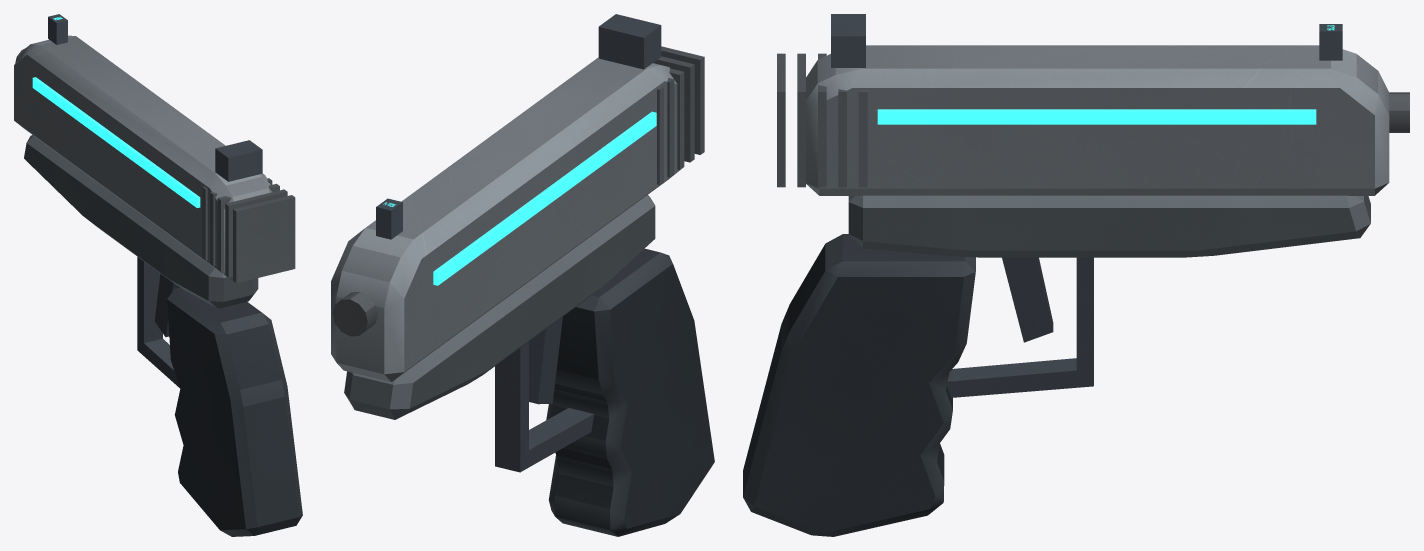
3 views of the same model, side by side, from view 1: azimuth 30°, elevation 25°; view 2: azimuth 150°, elevation 25°; view 3: azimuth 270°, elevation 25° (orthographic). The views are drawn at different scales.
Parts seen in each view (by area): view 1: vindicator-pistol_gun, vindicator-pistol_gunGrip, vindicator-pistol_glow; view 2: vindicator-pistol_gun, vindicator-pistol_gunGrip, vindicator-pistol_glow, vindicator-pistol_steel; view 3: vindicator-pistol_gun, vindicator-pistol_gunGrip, vindicator-pistol_glow, vindicator-pistol_steel.
Boxes of the visible parts, x1,y1,x2,y2 form: vindicator-pistol_gun: (14,14,295,387); vindicator-pistol_gunGrip: (24,135,302,536); vindicator-pistol_glow: (32,16,200,207); vindicator-pistol_gun: (331,14,704,472); vindicator-pistol_gunGrip: (344,195,714,536); vindicator-pistol_glow: (383,111,656,285); vindicator-pistol_steel: (332,292,377,336); vindicator-pistol_gun: (777,14,1389,397); vindicator-pistol_gunGrip: (743,195,1370,536); vindicator-pistol_glow: (877,25,1334,124); vindicator-pistol_steel: (1389,92,1409,132).
Size of the model in its own units: 0.0326 by 0.188 by 0.2281.
4 materials, 3 textured.
